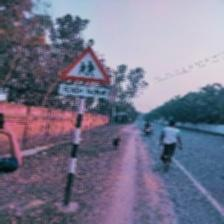College-in-front: (51, 41, 121, 111)
